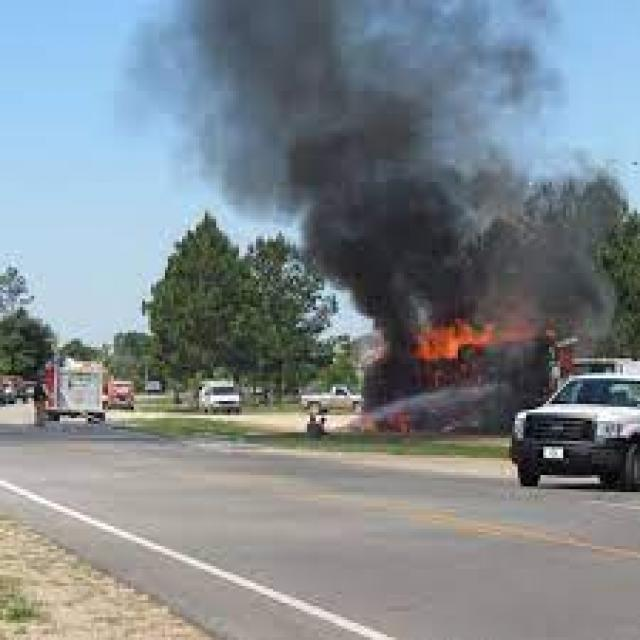fire: (407, 316, 495, 361)
smoke: (125, 6, 529, 216), (293, 176, 620, 318)
